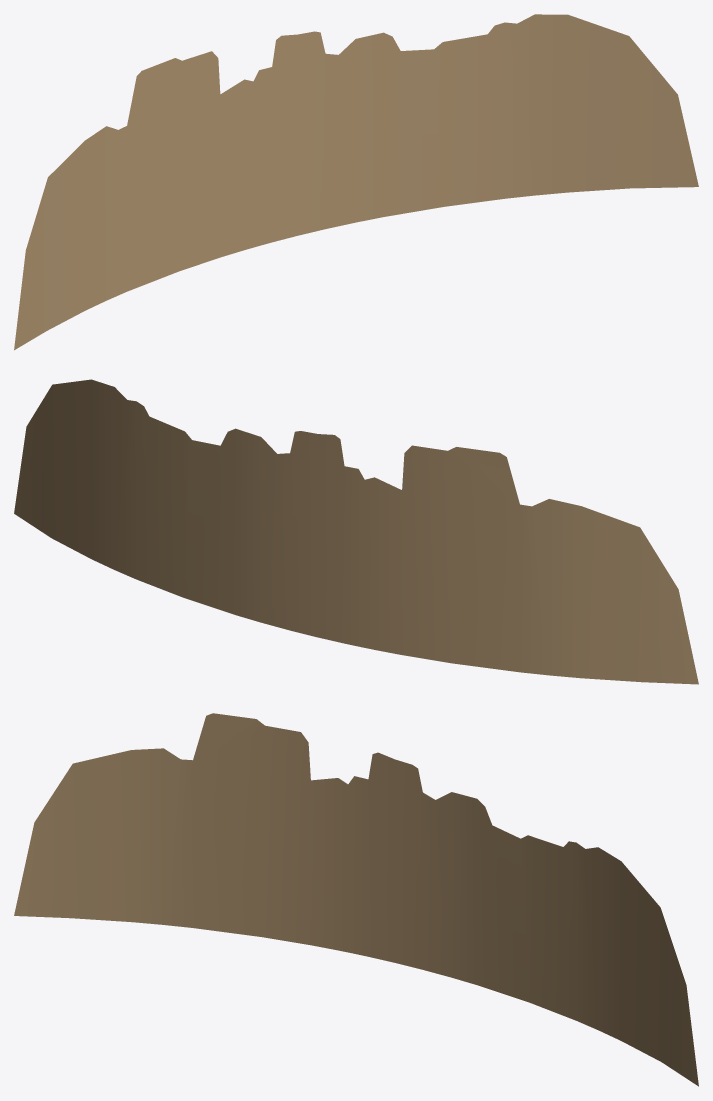
The model's file is background_5.fbx.
3 views of the same model, one above another, from view 1: azimuth 30°, elevation 25°; view 2: azimuth 150°, elevation 25°; view 3: azimuth 330°, elevation 25° (orthographic).
Visible parts, largest first — view 1: SM_Env_BackgroundCard_02; view 2: SM_Env_BackgroundCard_02; view 3: SM_Env_BackgroundCard_02.
Boxes of the visible parts, x1,y1,x2,y2 form: SM_Env_BackgroundCard_02: (14,14,698,350); SM_Env_BackgroundCard_02: (14,379,698,684); SM_Env_BackgroundCard_02: (14,713,698,1086).
Bounding box in the file's own units: 3494 × 1053 × 447.
Materials: 1 (1 with a texture image).
